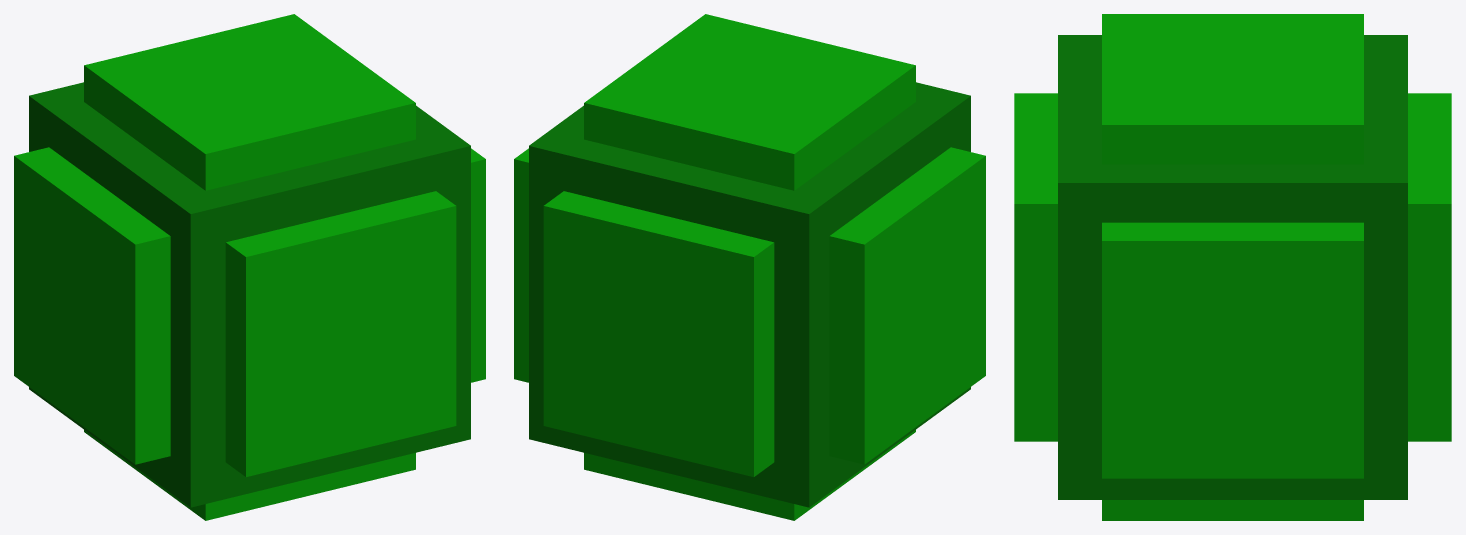
The model's file is bush_3.obj.
3 views of the same model, side by side, from view 1: azimuth 30°, elevation 25°; view 2: azimuth 150°, elevation 25°; view 3: azimuth 270°, elevation 25° (orthographic). The views are drawn at different scales.
Bounding box in the file's own units: 10 × 10 × 10.
Materials: 1 (1 with a texture image).
